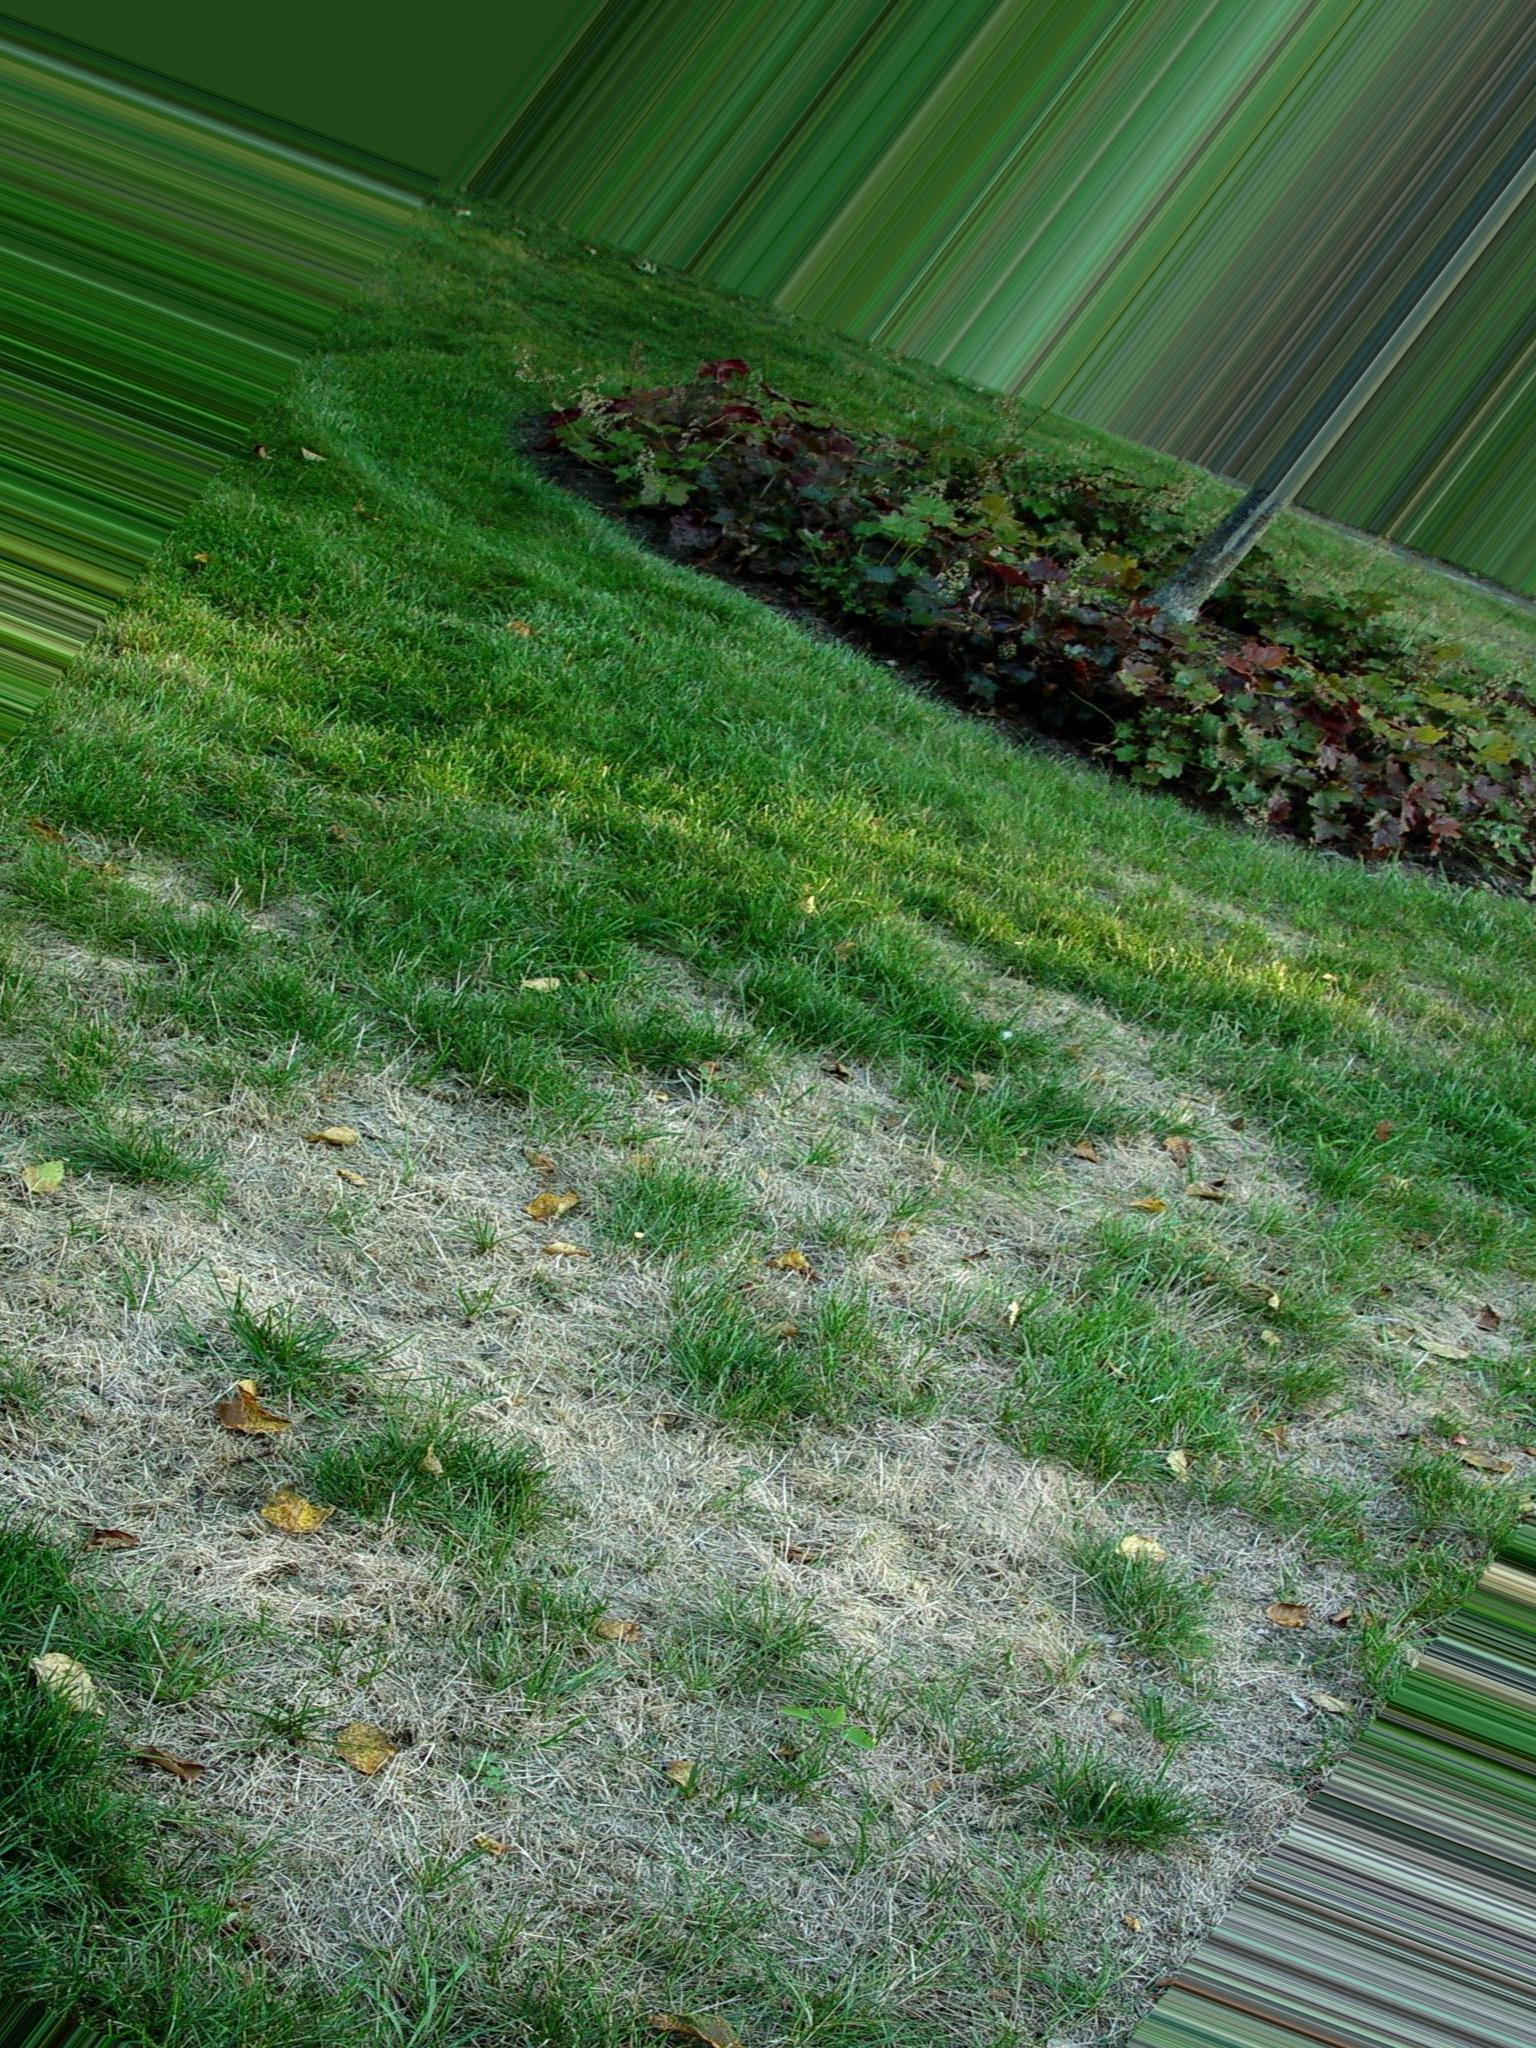patch: (692, 1421, 1218, 1771), (132, 1259, 550, 1593), (247, 984, 736, 1247), (190, 1630, 616, 1927), (881, 993, 1271, 1300)
